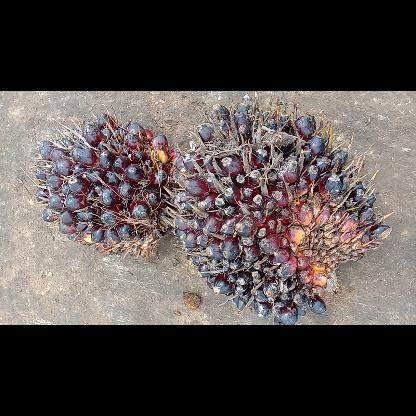TBS mentah: (173, 95, 391, 324), (31, 113, 173, 260)
